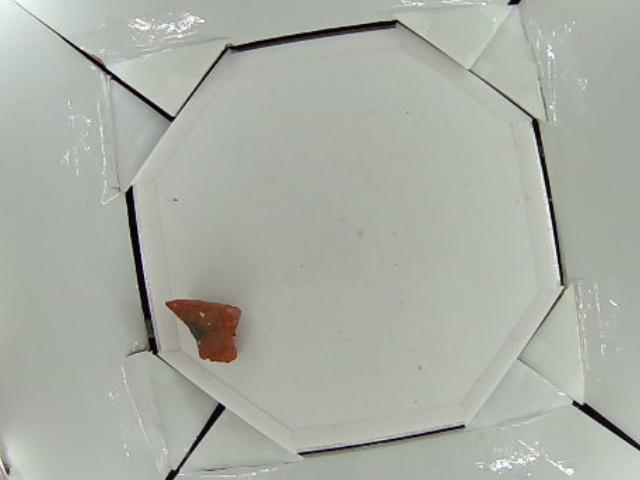Brisk: (161, 298, 241, 363)
